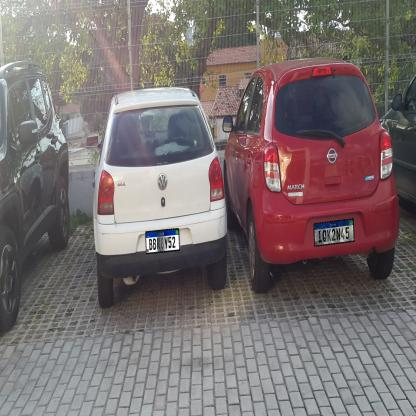PlacaM: (314, 218, 354, 247), (145, 228, 180, 254)
